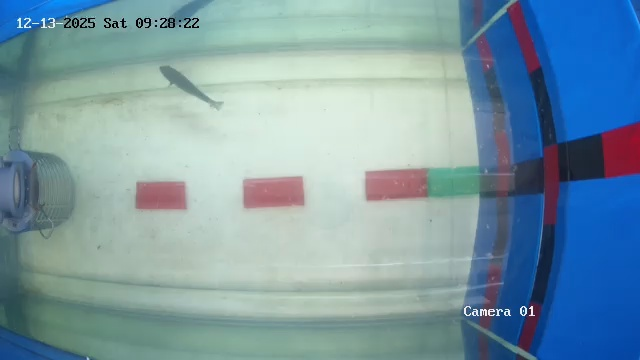fish: (155, 53, 222, 117)
